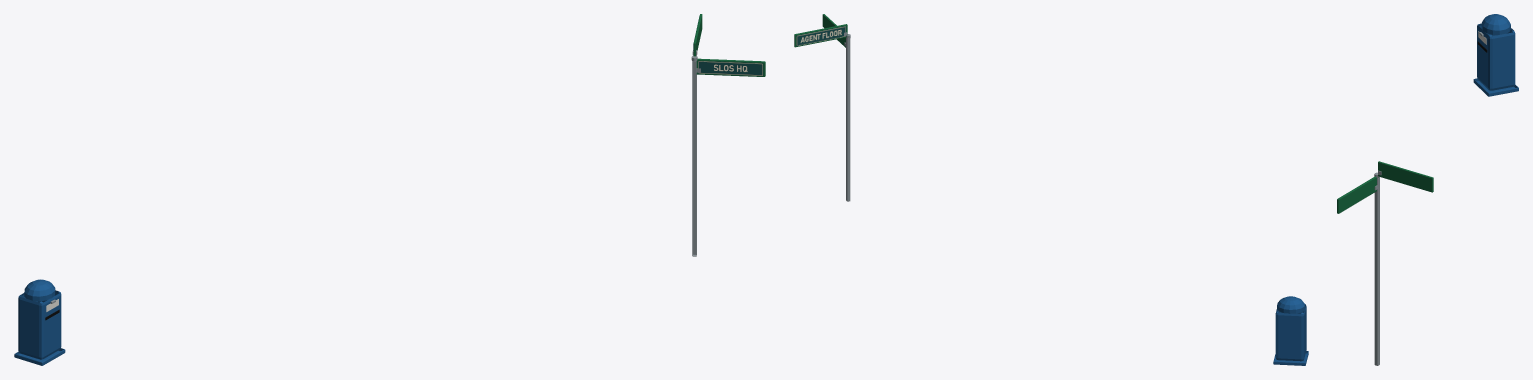
The model's file is slos-hq.glb.
3 renders of one model, left to right at view 1: azimuth 30°, elevation 25°; view 2: azimuth 150°, elevation 25°; view 3: azimuth 270°, elevation 25°, orthographic. The views are drawn at different scales.
Visible parts, largest first — view 1: geometry_0d68bbde35804, geometry_0, geometry_2; view 2: geometry_0d68bbde35804, geometry_0, geometry_3, geometry_1; view 3: geometry_0d68bbde35804, geometry_1, geometry_0.
Part boxes in pixels (x1,y1,x2,y2): geometry_0d68bbde35804: (14, 279, 65, 365); geometry_0: (691, 50, 700, 256); geometry_2: (698, 61, 763, 75); geometry_0d68bbde35804: (1273, 296, 1308, 365); geometry_0: (844, 32, 850, 201); geometry_3: (796, 26, 846, 46); geometry_1: (794, 14, 847, 47); geometry_0d68bbde35804: (1473, 14, 1518, 96); geometry_1: (1337, 161, 1433, 213); geometry_0: (1374, 170, 1381, 365).
Size of the model in its own units: 11.02 by 3.36 by 2.71.
8 materials, 2 textured.
